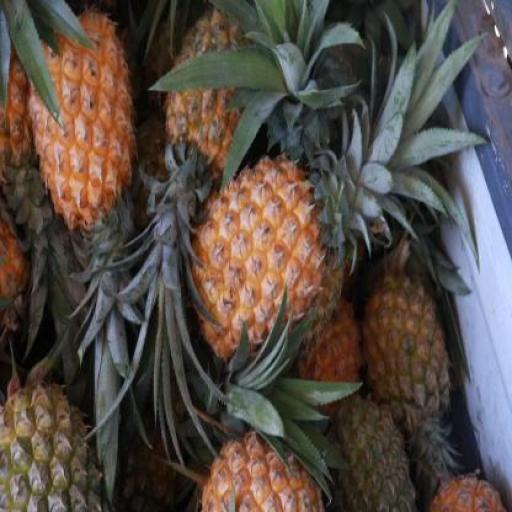------------------------------: (365, 265, 453, 438), (0, 378, 112, 512)
Pineapple - v8 v1: (184, 159, 334, 370), (22, 2, 134, 228)
